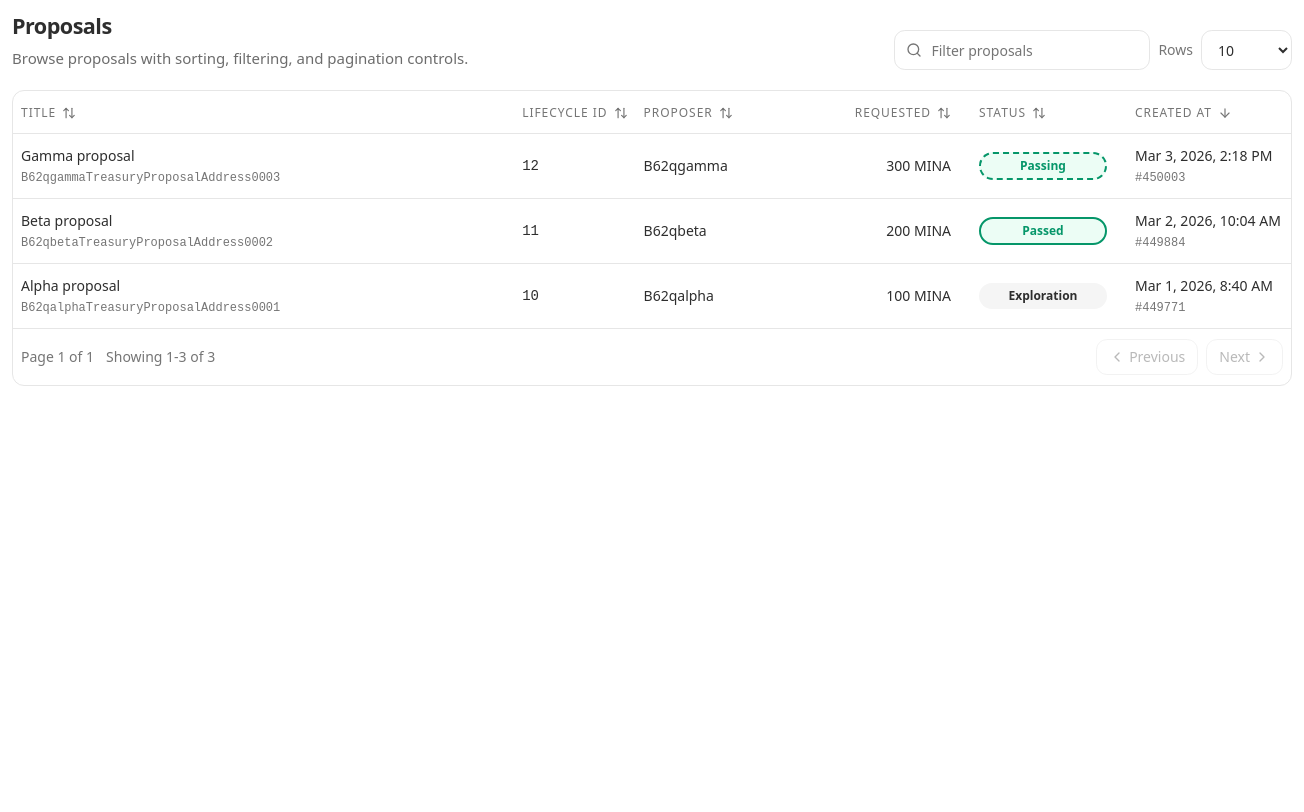
Test: TreasuryProposalsTable › uses filter-specific empty copy only when a query is applied
Type "does-not-exist" into the field labelled "Filter proposals" at (1022,50), box [894,30,1150,70]
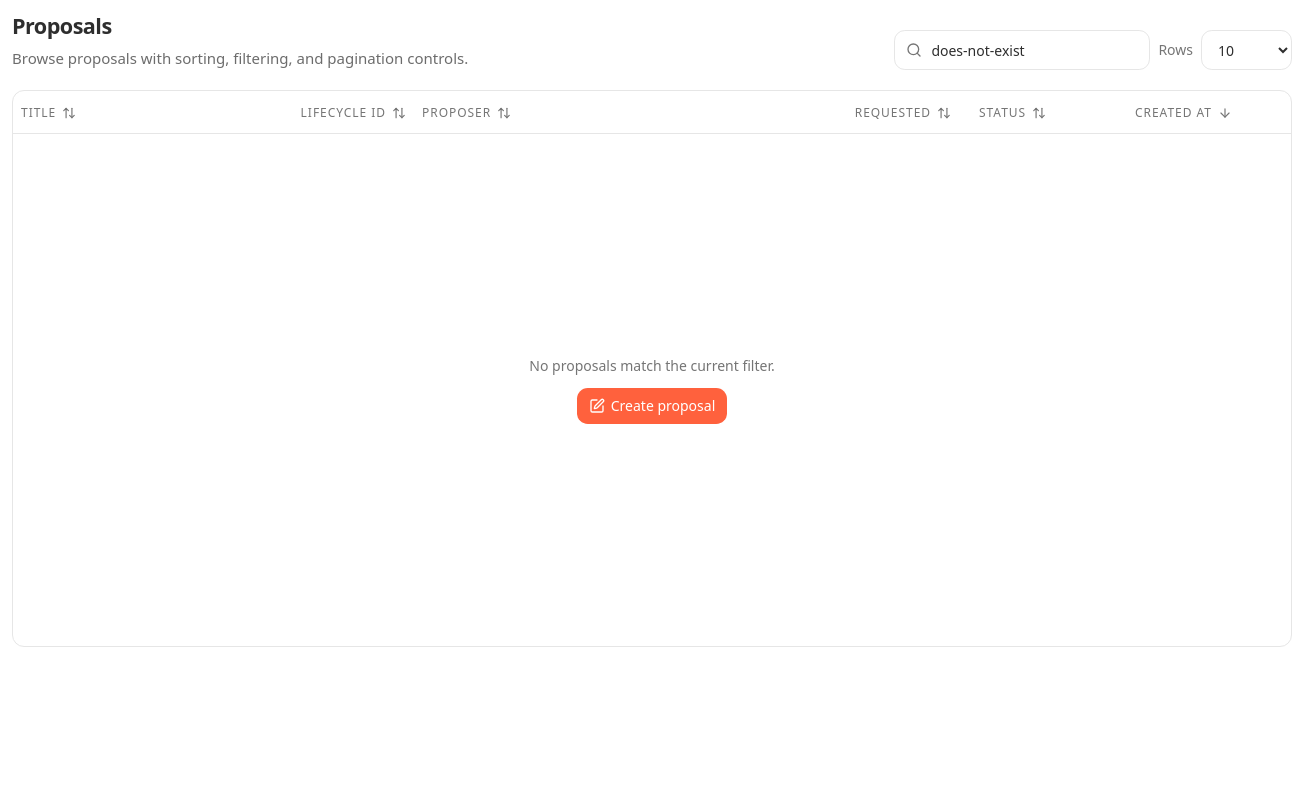
Now the text "No proposals match the current filter." is shown, box [529,356,775,376]
Now the text "Page 1 of 1" is gone
